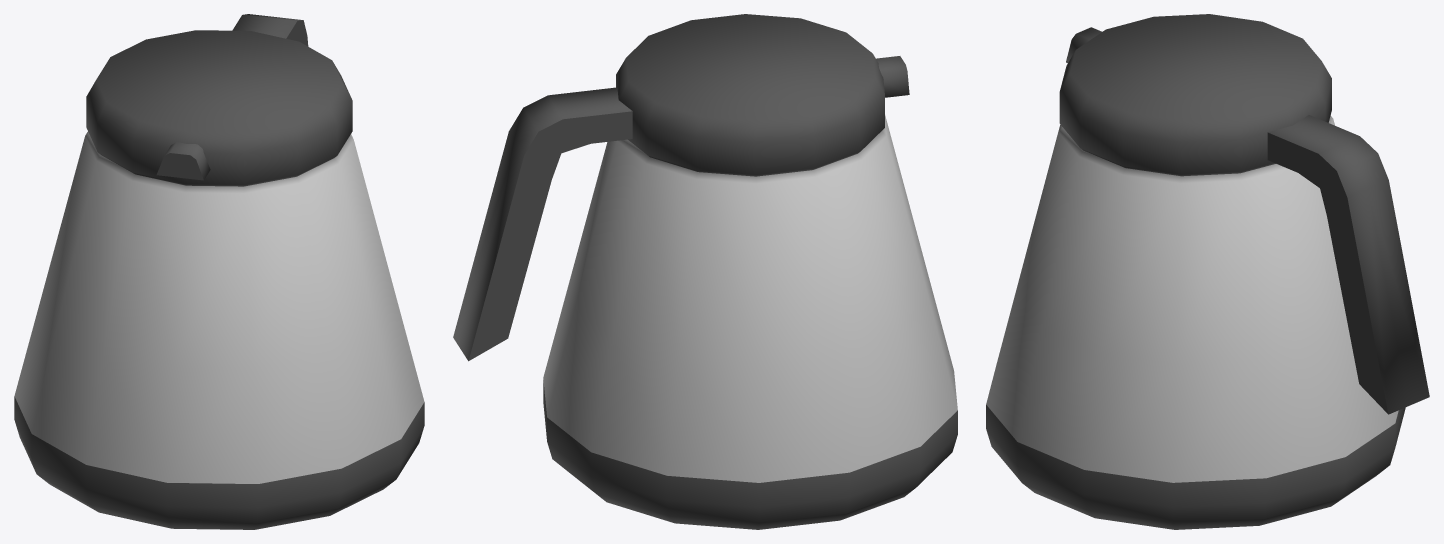
The model's file is kettle.gltf.
3 views of the same model, side by side, from view 1: azimuth 30°, elevation 25°; view 2: azimuth 150°, elevation 25°; view 3: azimuth 270°, elevation 25° (orthographic). The views are drawn at different scales.
Visible parts, largest first — view 1: Simple Coffee; view 2: Simple Coffee; view 3: Simple Coffee.
Boxes of the visible parts, x1=… form: Simple Coffee: x1=14, y1=14, x2=424, y2=529; Simple Coffee: x1=453, y1=14, x2=957, y2=529; Simple Coffee: x1=986, y1=14, x2=1429, y2=529.
Bounding box in the file's own units: 0.1593 × 0.1539 × 0.1597.
Materials: 1 (1 with a texture image).
